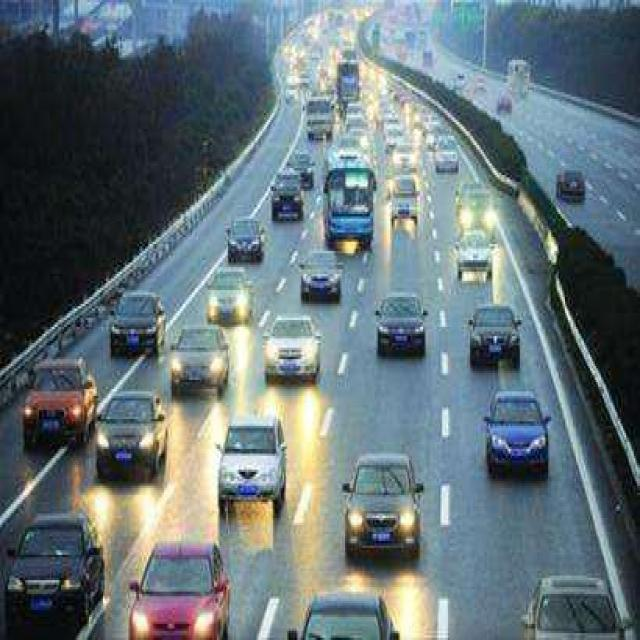other: (253, 363, 338, 441), (80, 477, 166, 522), (197, 280, 255, 331), (451, 194, 500, 235)
